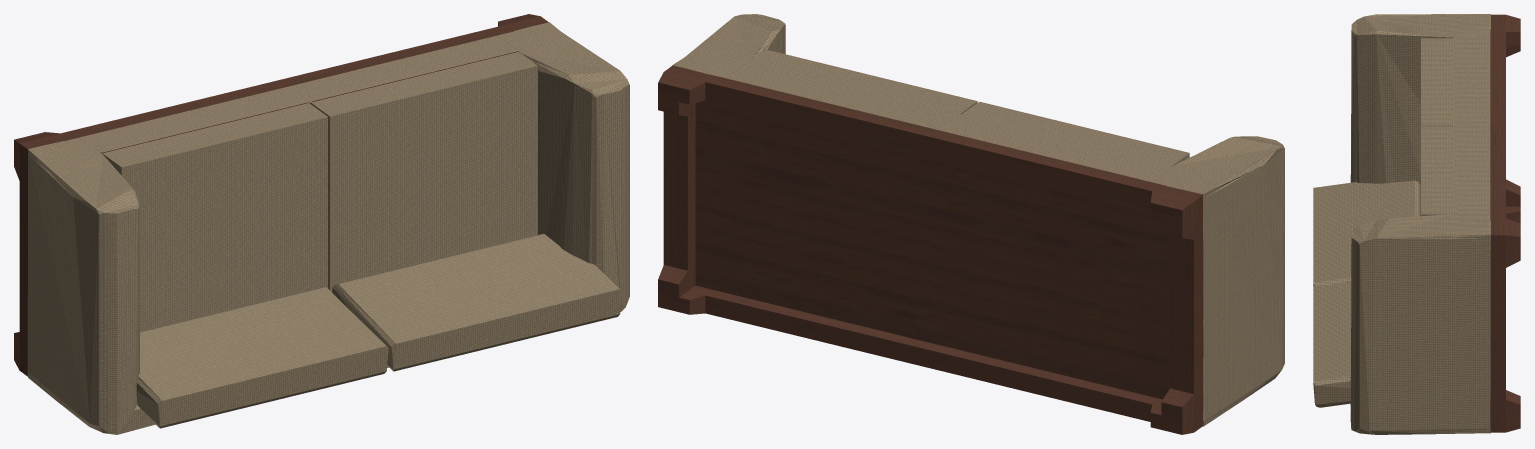
Rendered from couch548_wtf.obj.
3 renders of one model, left to right at view 1: azimuth 30°, elevation 25°; view 2: azimuth 150°, elevation 25°; view 3: azimuth 270°, elevation 25°, orthographic. The views are drawn at different scales.
Visible parts, largest first — view 1: group4, group3; view 2: group3, group4; view 3: group4, group3.
Boxes of the visible parts, x1,y1,x2,y2 form: group4: (27,22,629,434); group3: (14,14,548,376); group3: (658,65,1203,434); group4: (672,14,1284,426); group4: (1313,14,1490,434); group3: (1490,14,1520,432).
Bounding box in the file's own units: 660 × 269 × 254.
